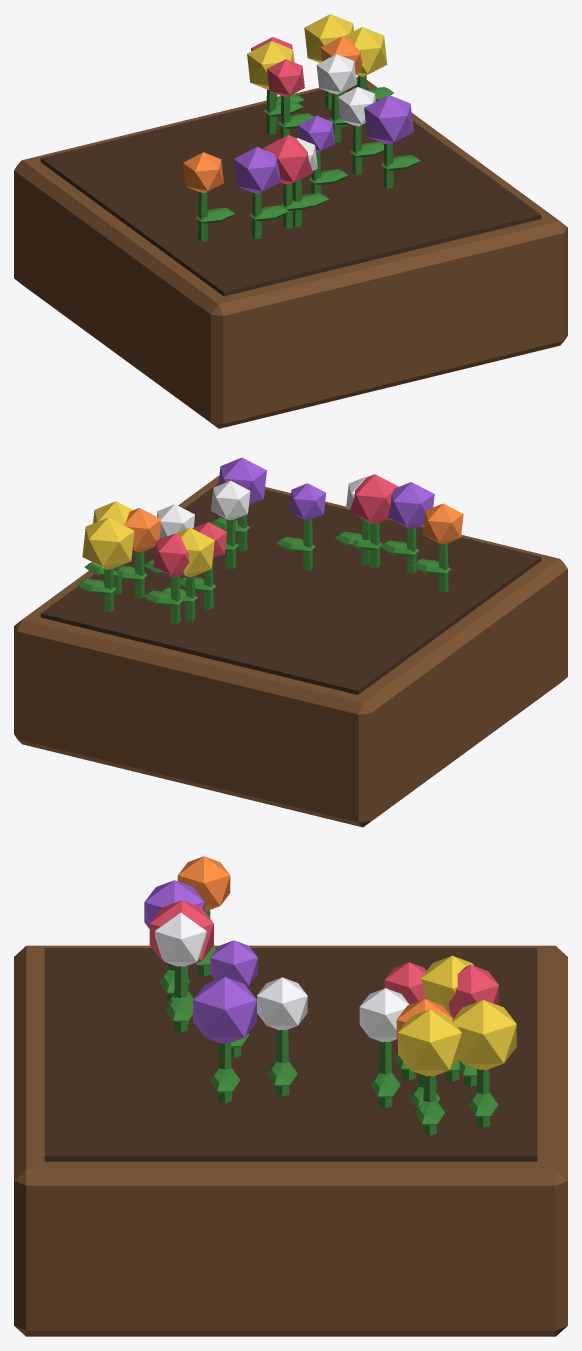
The model's file is prop_flowerbed.glb.
The picture shows the model from 3 angles, top to bottom: view 1: azimuth 30°, elevation 25°; view 2: azimuth 150°, elevation 25°; view 3: azimuth 270°, elevation 25°; orthographic projection. The views are drawn at different scales.
Parts seen in each view (by area): view 1: box, soil, flower.013, flower.008, flower, flower.006, flower.004, flower.002, flower.011, flower.001, flower.010, flower.012 (+2 smaller); view 2: box, soil, flower.006, flower, flower.008, flower.013, flower.004, flower.012, flower.011, flower.005, flower.009, flower.003 (+4 smaller); view 3: box, soil, flower.006, flower.013, flower.001, flower.012, flower.007, flower.002, flower.004, flower.003, flower.005, flower.011 (+4 smaller).
Boxes of the visible parts, left/top/right/bottom form: box: left=14, top=80, right=567, bottom=428; soil: left=40, top=85, right=541, bottom=296; flower.013: left=364, top=95, right=413, bottom=144; flower.008: left=234, top=147, right=280, bottom=193; flower: left=263, top=135, right=313, bottom=184; flower.006: left=304, top=14, right=353, bottom=62; flower.004: left=183, top=152, right=223, bottom=193; flower.002: left=316, top=54, right=356, bottom=94; flower.011: left=247, top=41, right=294, bottom=89; flower.001: left=344, top=27, right=387, bottom=76; flower.010: left=267, top=59, right=304, bottom=97; flower.012: left=338, top=87, right=375, bottom=126; box: left=14, top=476, right=567, bottom=827; soil: left=40, top=483, right=541, bottom=694; flower.006: left=82, top=517, right=134, bottom=569; flower: left=350, top=474, right=398, bottom=524; flower.008: left=388, top=482, right=434, bottom=528; flower.013: left=218, top=457, right=266, bottom=505; flower.004: left=422, top=503, right=463, bottom=544; flower.012: left=211, top=480, right=250, bottom=520; flower.011: left=175, top=527, right=214, bottom=577; flower.005: left=153, top=533, right=189, bottom=577; flower.009: left=124, top=508, right=161, bottom=552; flower.003: left=289, top=483, right=326, bottom=520; box: left=14, top=945, right=567, bottom=1336; soil: left=44, top=948, right=537, bottom=1161; flower.006: left=452, top=1000, right=516, bottom=1069; flower.013: left=193, top=977, right=256, bottom=1043; flower.001: left=398, top=1009, right=461, bottom=1076; flower.012: left=257, top=977, right=307, bottom=1030; flower.007: left=155, top=912, right=206, bottom=966; flower.002: left=359, top=988, right=409, bottom=1042; flower.004: left=177, top=856, right=230, bottom=910; flower.003: left=210, top=940, right=257, bottom=986; flower.005: left=448, top=965, right=498, bottom=1018; flower.011: left=420, top=955, right=473, bottom=1018.
Bounding box in the file's own units: 0.9 × 0.5341 × 0.9.
